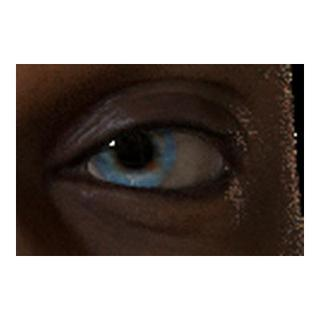pupil: (118, 134, 153, 169)
